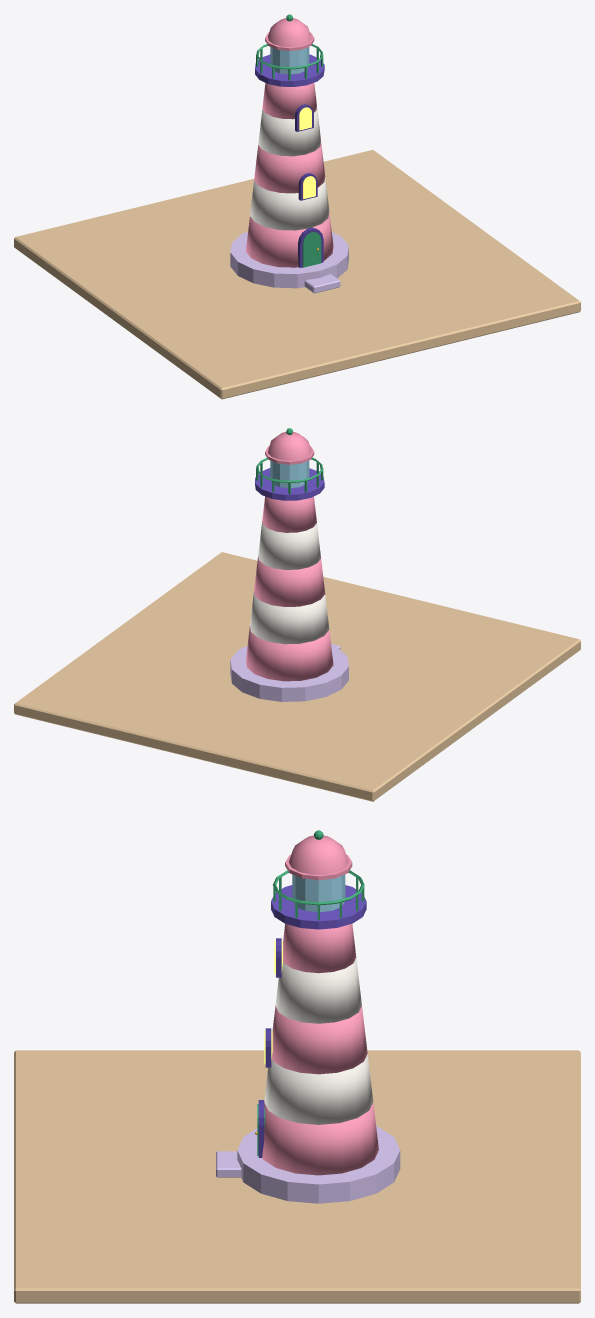
Rendered from bld_lighthouse.glb.
3 views of the same model, one above another, from view 1: azimuth 30°, elevation 25°; view 2: azimuth 150°, elevation 25°; view 3: azimuth 270°, elevation 25° (orthographic). The views are drawn at different scales.
Parts seen in each view (by area): view 1: bld_lighthouse; view 2: bld_lighthouse; view 3: bld_lighthouse.
Part boxes in pixels (bbox=[...]): bld_lighthouse: bbox=[14, 14, 580, 399]; bld_lighthouse: bbox=[14, 428, 580, 801]; bld_lighthouse: bbox=[14, 830, 580, 1303].
Size of the model in its own units: 16 by 11.02 by 16.
